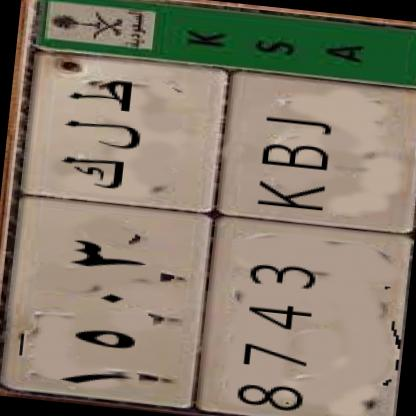english: (187, 59, 416, 416)
